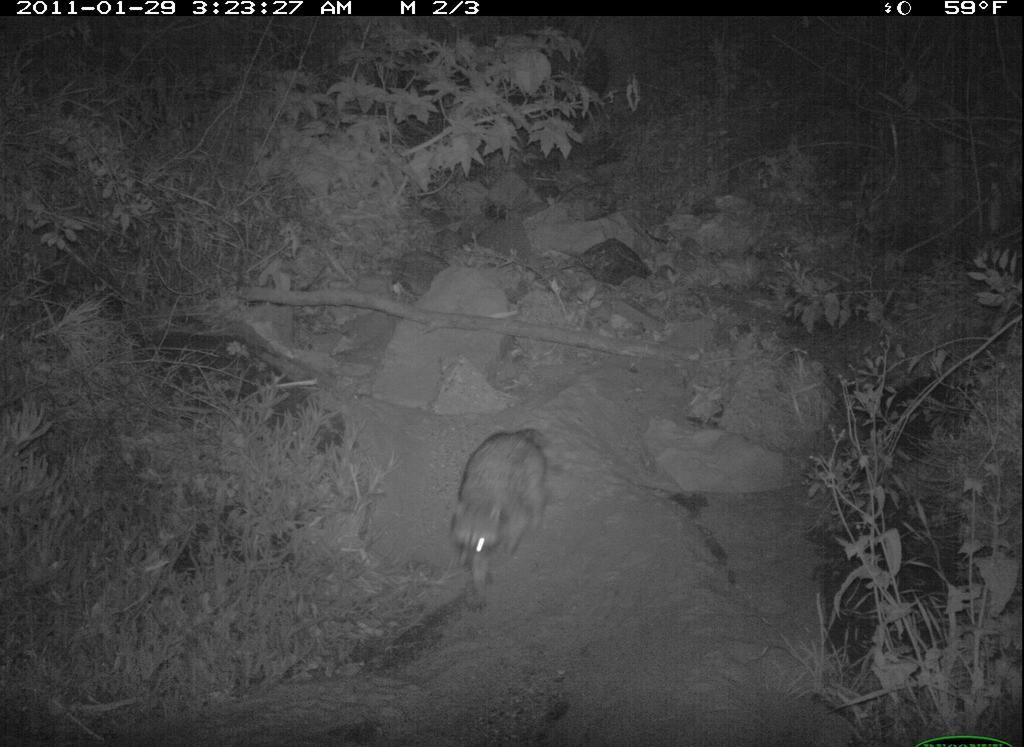raccoon: (438, 410, 568, 614)
